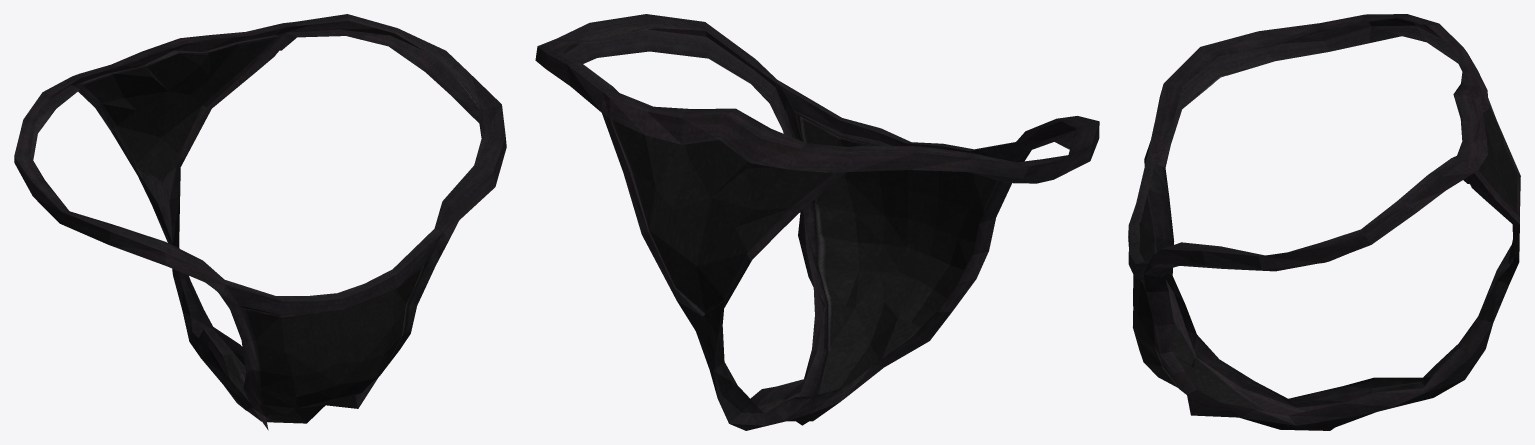
Rendered from mhw_punkduck_string_2.glb.
3 views of the same model, side by side, from view 1: azimuth 30°, elevation 25°; view 2: azimuth 150°, elevation 25°; view 3: azimuth 270°, elevation 25° (orthographic). The views are drawn at different scales.
Visible parts, largest first — view 1: mhw_punkduck_string_2; view 2: mhw_punkduck_string_2; view 3: mhw_punkduck_string_2.
Part boxes in pixels (box(x1,y1,x2,y2)): mhw_punkduck_string_2: box(14, 14, 506, 430); mhw_punkduck_string_2: box(535, 14, 1099, 430); mhw_punkduck_string_2: box(1128, 14, 1520, 430).
Bounding box in the file's own units: 0.3185 × 0.2217 × 0.2346.
Materials: 1 (1 with a texture image).
